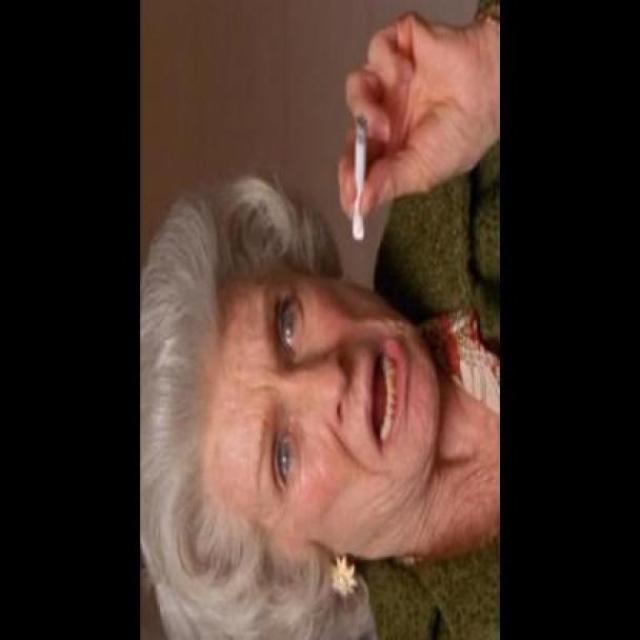rokok: (348, 118, 374, 245)
